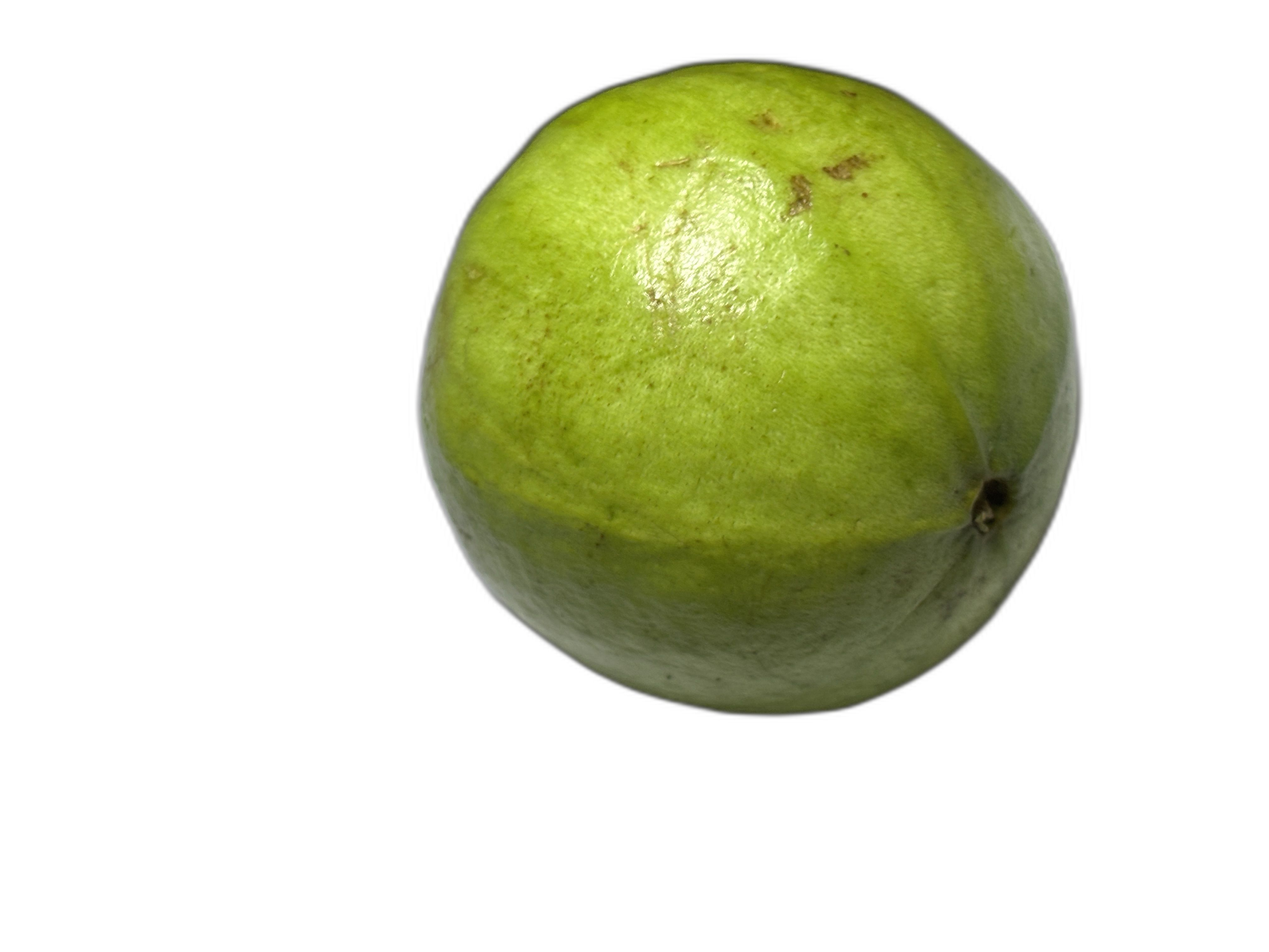guava: (241, 16, 1081, 754)
